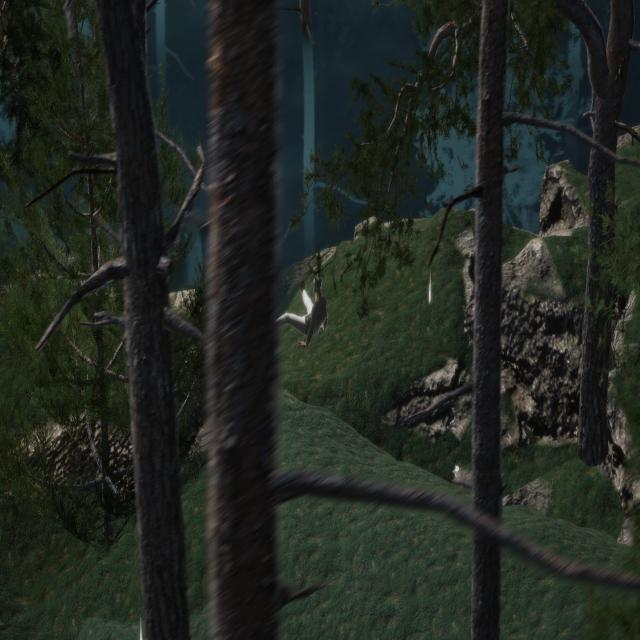Human: (277, 265, 332, 357)
